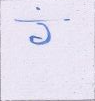anusvara: (36, 7, 40, 11)
